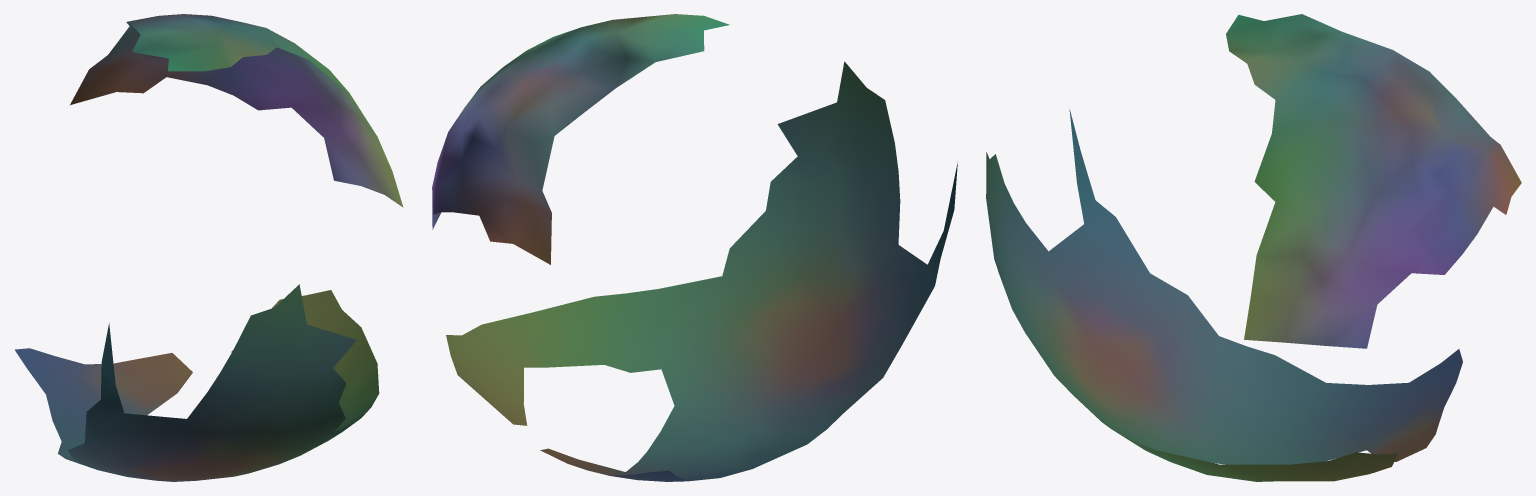
The model's file is space-nebulae-nebula_v2.glb.
3 views of the same model, side by side, from view 1: azimuth 30°, elevation 25°; view 2: azimuth 150°, elevation 25°; view 3: azimuth 270°, elevation 25° (orthographic). The views are drawn at different scales.
Visible parts, largest first — view 1: Nebula_v2; view 2: Nebula_v2; view 3: Nebula_v2.
Boxes of the visible parts, x1,y1,x2,y2 form: Nebula_v2: [15, 14, 403, 481]; Nebula_v2: [432, 14, 957, 481]; Nebula_v2: [986, 14, 1521, 481].
Bounding box in the file's own units: 0.4274 × 0.4373 × 0.5.
